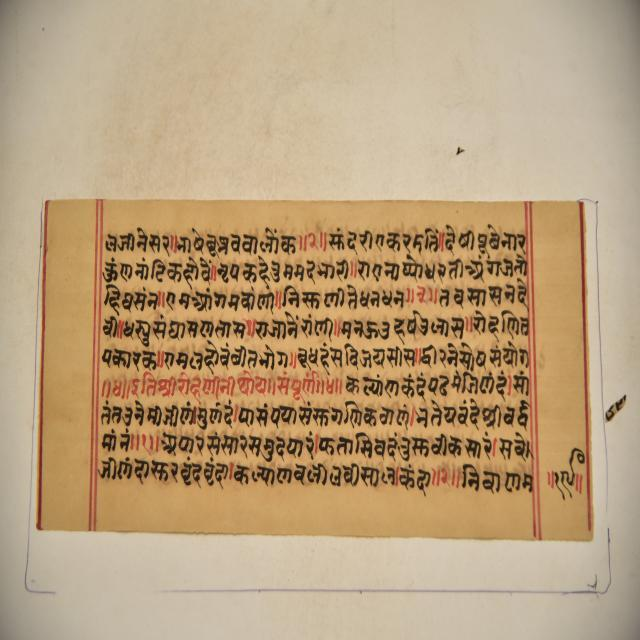text_paragraph: (36, 199, 591, 539)
